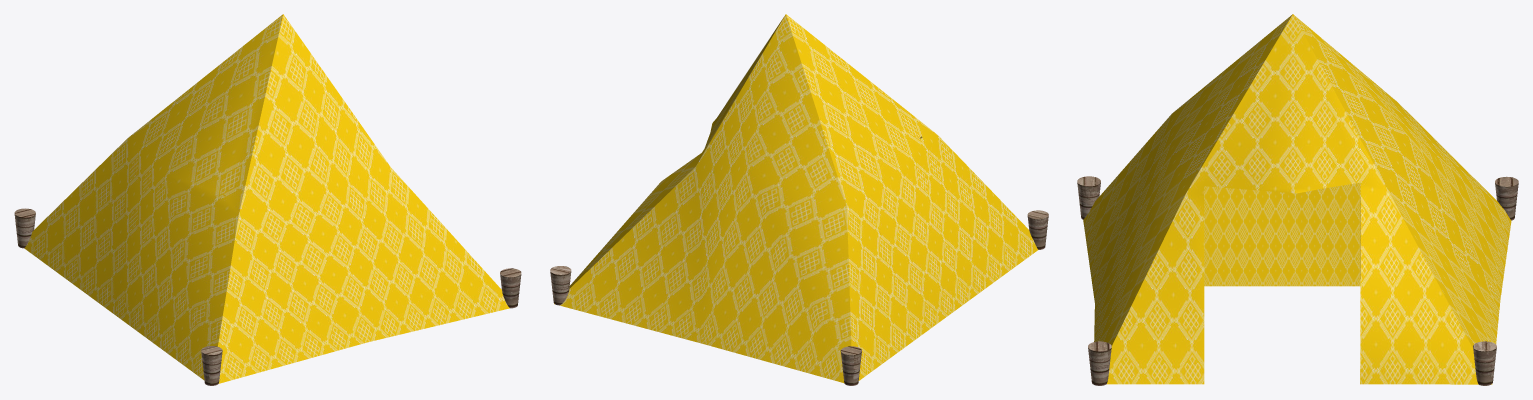
File: CarpaProyecto.fbx
3 views of the same model, side by side, from view 1: azimuth 30°, elevation 25°; view 2: azimuth 150°, elevation 25°; view 3: azimuth 270°, elevation 25° (orthographic). The views are drawn at different scales.
Visible parts, largest first — view 1: Pyramid001, Cone003, Cone001, Cone004; view 2: Pyramid001, Cone004, Cone002, Cone003; view 3: Pyramid001, Cone001, Cone002, Cone004, Cone003.
Boxes of the visible parts, x1,y1,x2,y2 form: Pyramid001: (24,14,509,383); Cone003: (201,346,222,385); Cone001: (500,268,521,308); Cone004: (14,208,35,248); Pyramid001: (554,14,1037,382); Cone004: (840,346,861,385); Cone002: (550,266,571,305); Cone003: (1027,210,1048,249); Pyramid001: (1083,14,1511,384); Cone001: (1088,341,1111,385); Cone002: (1473,341,1496,385); Cone004: (1495,176,1518,220); Cone003: (1077,176,1100,219).
Size of the model in its own units: 104 by 80.77 by 111.
